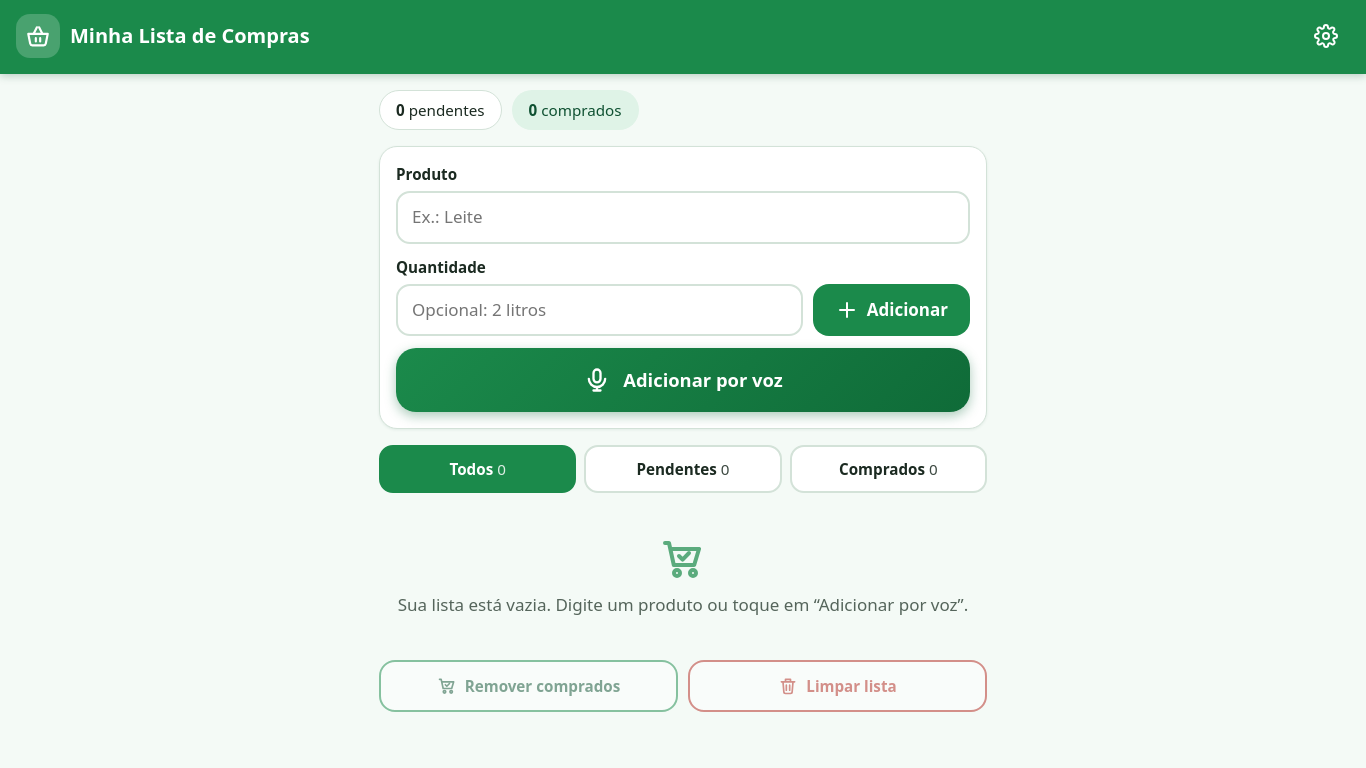
Scenario: Lista de compras › adiciona um produto digitando
The width and height of the screenshot is (1366, 768).
Expected: the element named "Filtrar itens" is shown, left=379, top=445, right=987, bottom=493
Type "Leite" into the field labelled "Produto".
click(683, 217); type("Leite")  # box left=396, top=191, right=970, bottom=244
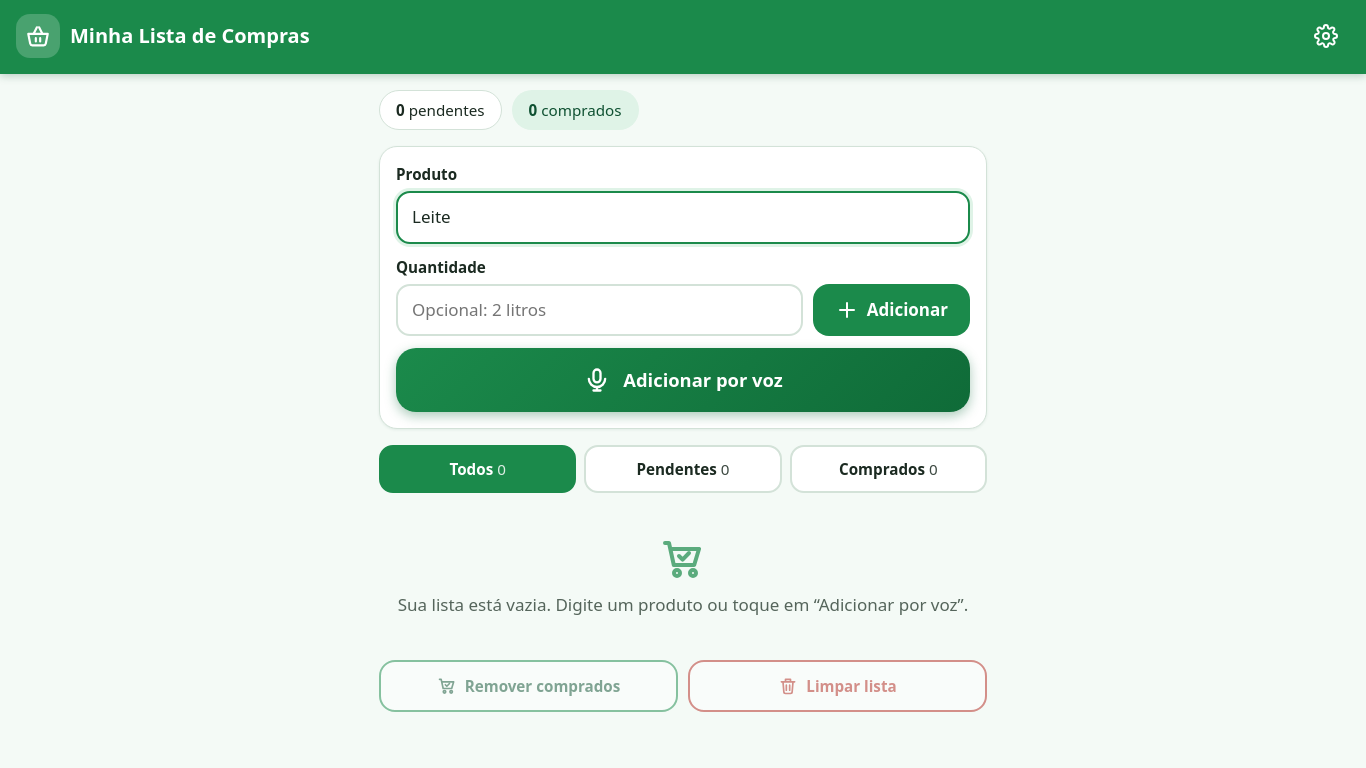
Type "2 litros" into the field labelled "Quantidade".
click(599, 310); type("2 litros")  # box left=396, top=284, right=803, bottom=336
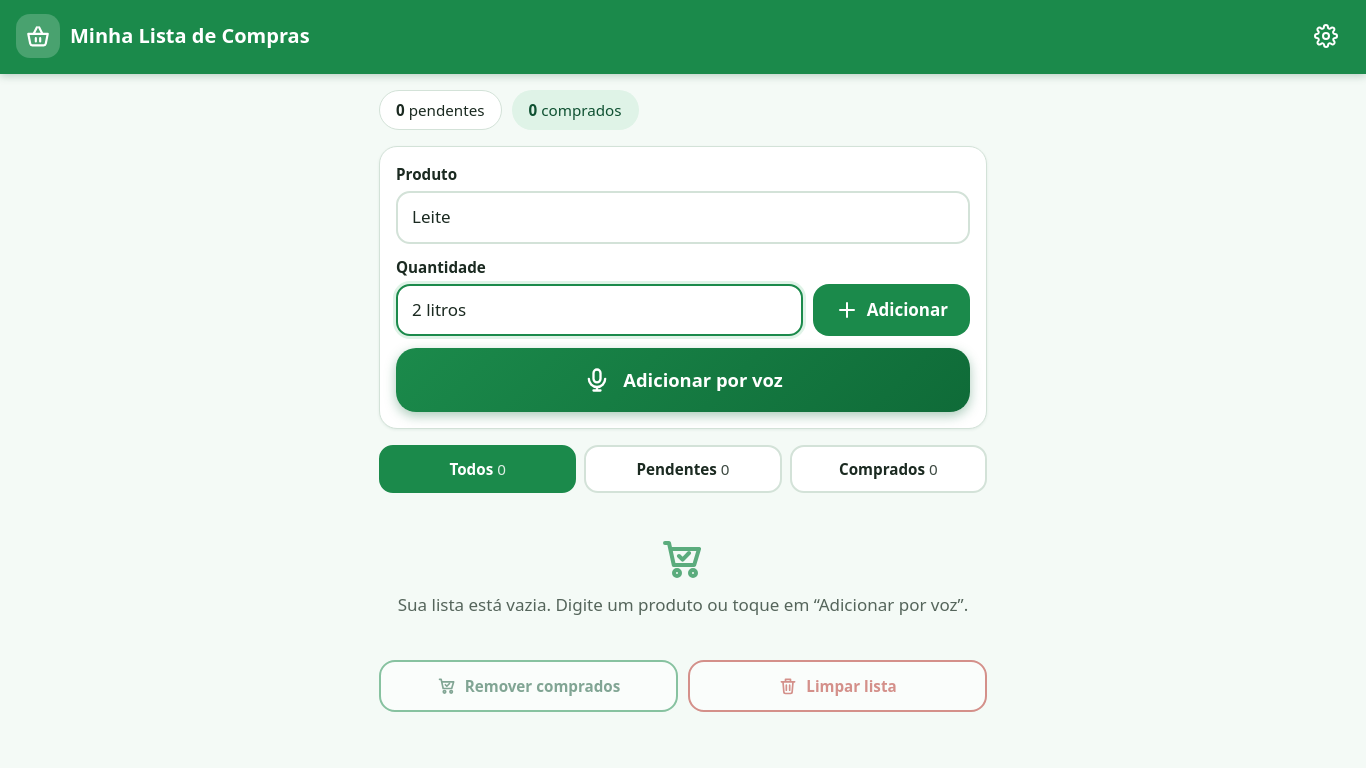
Click the button "Adicionar".
click(891, 310)  # box left=813, top=284, right=970, bottom=336
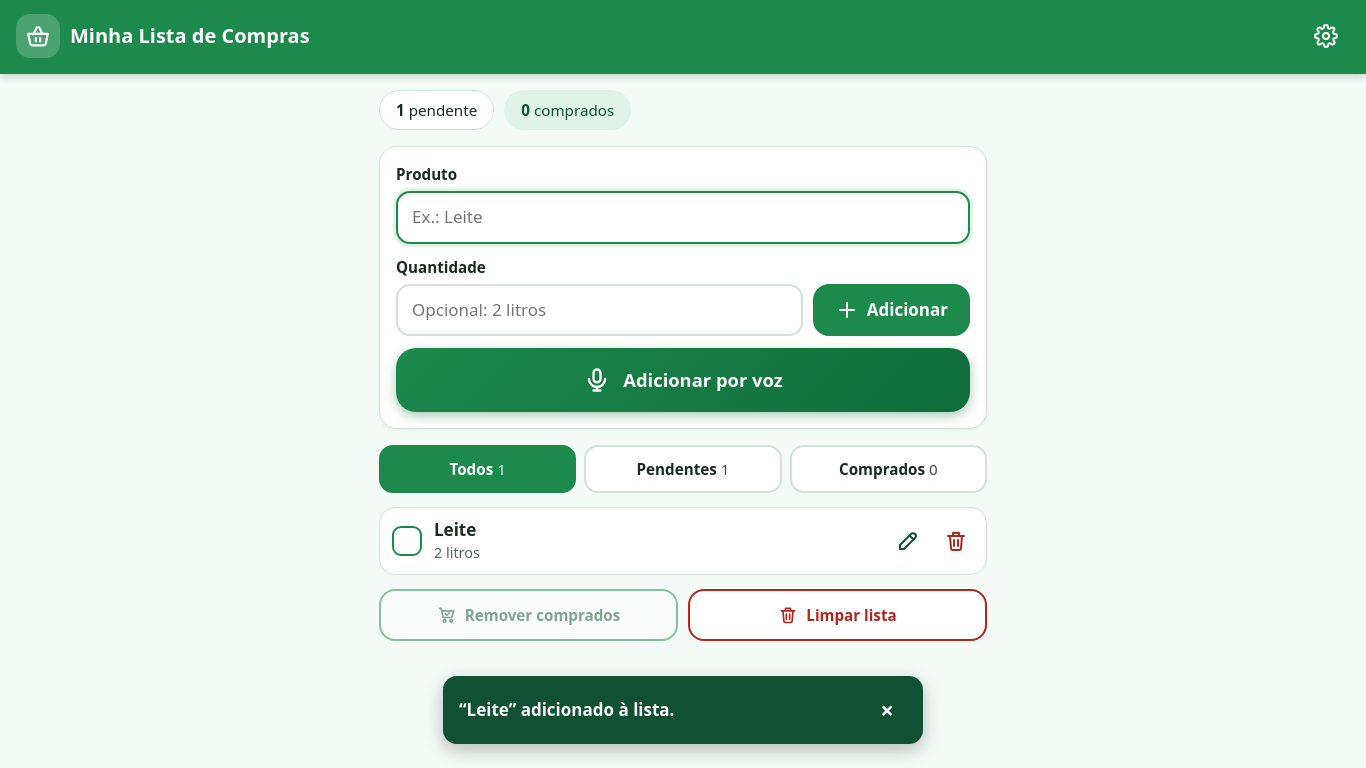
Now the checkbox named "Leite, 2 litros" is shown, box left=384, top=512, right=880, bottom=570
Now the text "“Leite” adicionado à lista." is shown, box left=459, top=698, right=674, bottom=722
Now the field labelled "Produto" is empty, box left=396, top=191, right=970, bottom=244
